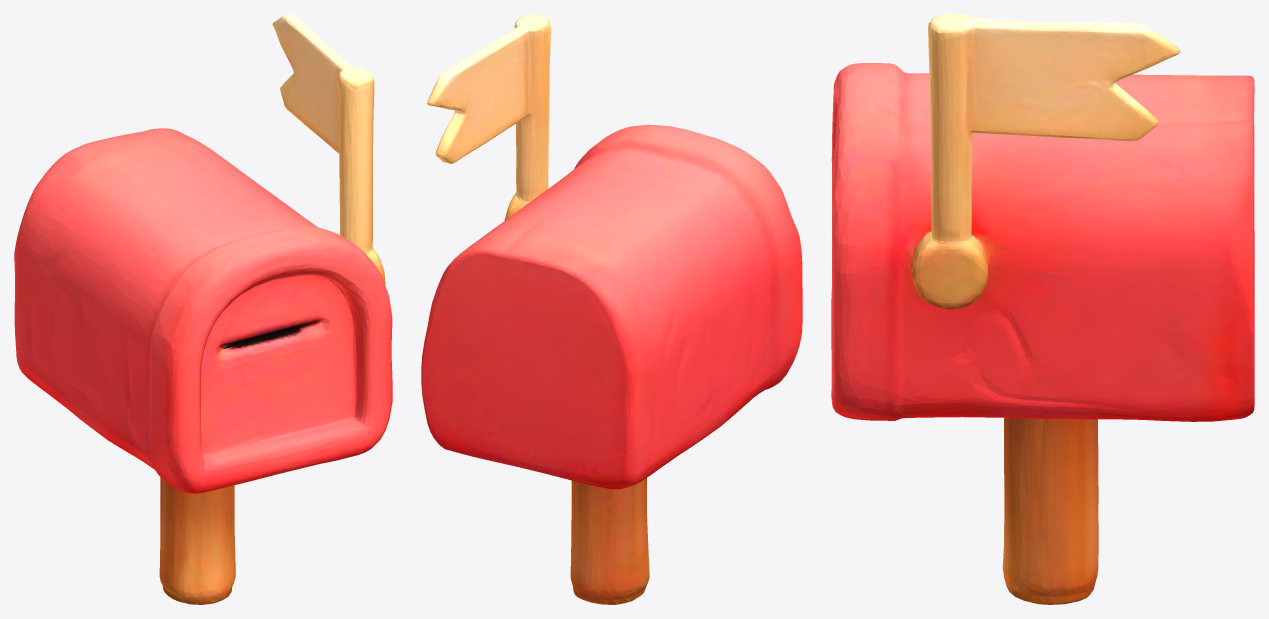
The model's file is mailbox.glb.
The picture shows the model from 3 angles, left to right: view 1: azimuth 30°, elevation 25°; view 2: azimuth 150°, elevation 25°; view 3: azimuth 270°, elevation 25°; orthographic projection. The views are drawn at different scales.
Visible parts, largest first — view 1: tripo_mesh_c9a9dcbd-fe87-4063-90a9-d5d387a59b18; view 2: tripo_mesh_c9a9dcbd-fe87-4063-90a9-d5d387a59b18; view 3: tripo_mesh_c9a9dcbd-fe87-4063-90a9-d5d387a59b18.
Part boxes in pixels (<box>): tripo_mesh_c9a9dcbd-fe87-4063-90a9-d5d387a59b18: <box>14,14,392,604</box>; tripo_mesh_c9a9dcbd-fe87-4063-90a9-d5d387a59b18: <box>421,14,802,604</box>; tripo_mesh_c9a9dcbd-fe87-4063-90a9-d5d387a59b18: <box>831,14,1254,604</box>.
Size of the model in its own units: 0.4969 by 1 by 0.5991.
1 material, 1 textured.
